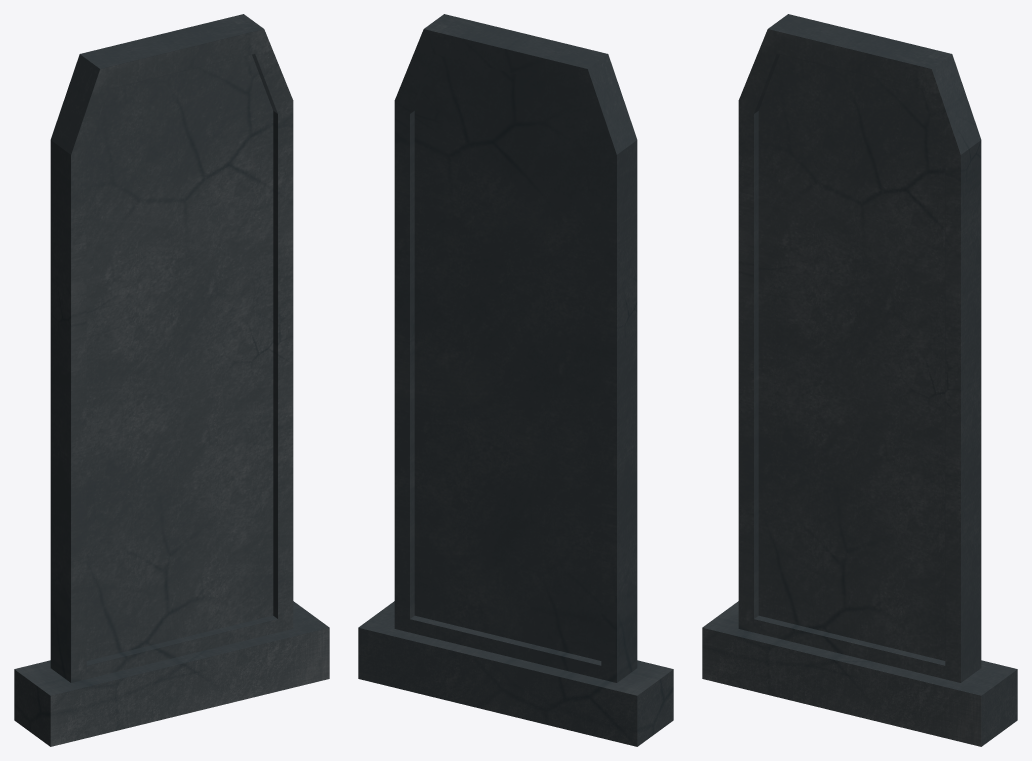
File: Gravestone25_Model.fbx
The picture shows the model from 3 angles, left to right: view 1: azimuth 30°, elevation 25°; view 2: azimuth 150°, elevation 25°; view 3: azimuth 330°, elevation 25°; orthographic projection.
Parts seen in each view (by area): view 1: Gravestone25_Model; view 2: Gravestone25_Model; view 3: Gravestone25_Model.
Boxes of the visible parts, x1,y1,x2,y2 form: Gravestone25_Model: (14,14,329,746); Gravestone25_Model: (358,14,673,746); Gravestone25_Model: (702,14,1017,746).
Bounding box in the file's own units: 99.5 × 224 × 22.48.
